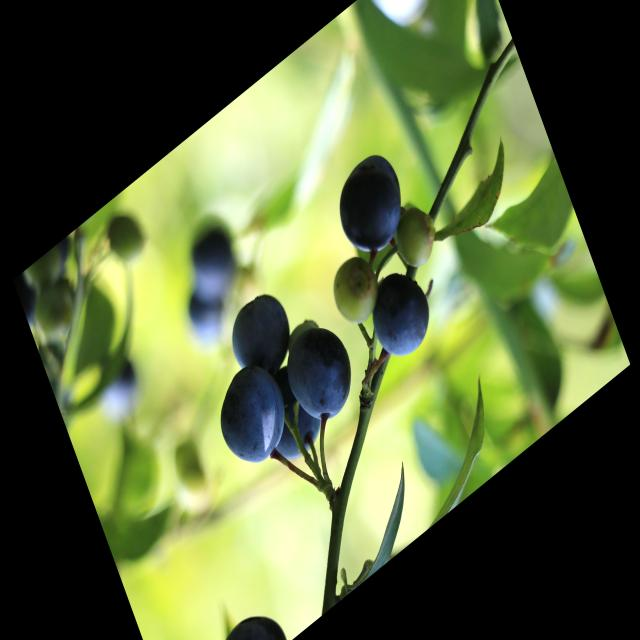blueberry: (202, 349, 294, 484), (327, 140, 417, 274), (277, 311, 361, 441), (219, 274, 302, 393), (362, 258, 436, 372), (255, 363, 323, 472), (207, 585, 292, 640)
blueberry-unripe: (326, 245, 386, 335), (388, 195, 442, 277)
